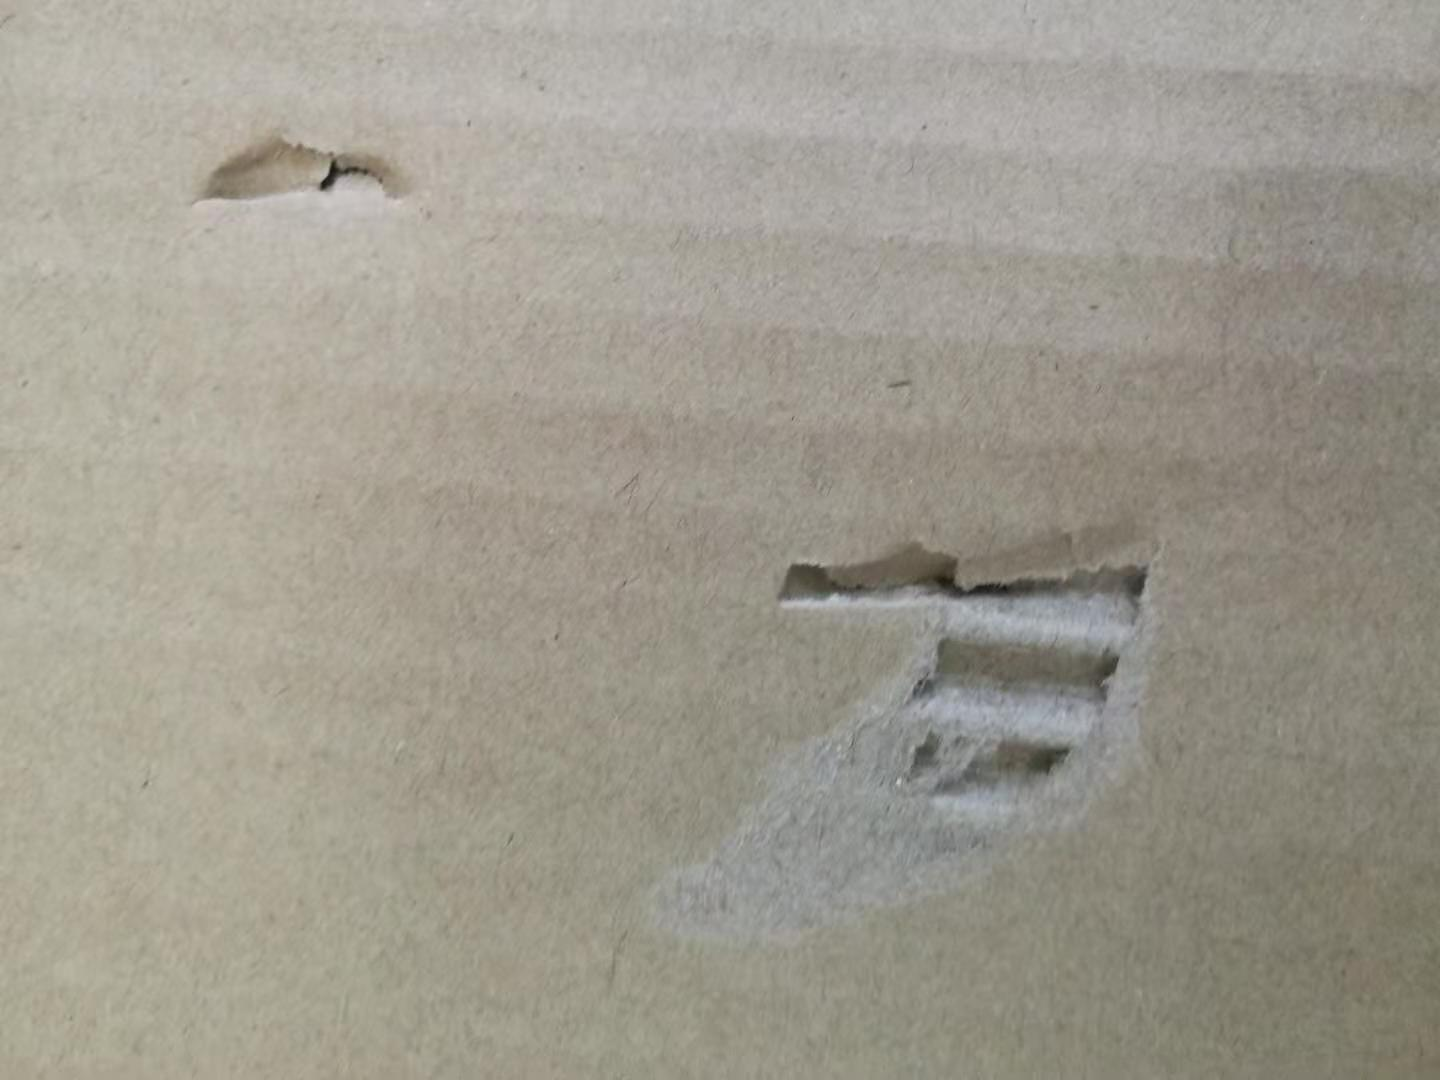defect: (608, 506, 1211, 972), (170, 93, 432, 244)
